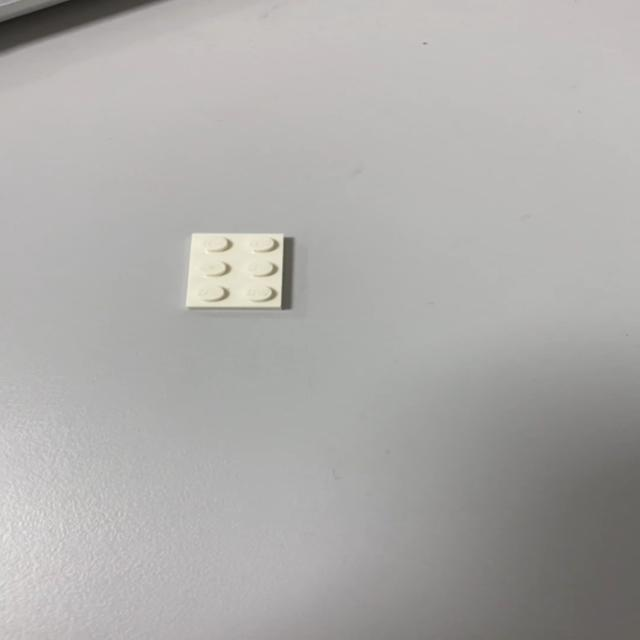C3x2x0: (184, 232, 285, 310)
